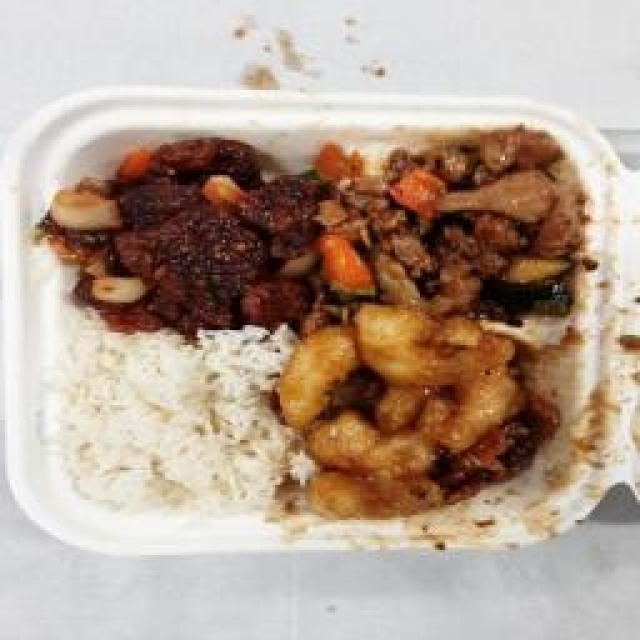Wet Waste: (305, 125, 605, 335), (272, 300, 542, 522), (42, 130, 318, 335), (55, 332, 277, 512)
